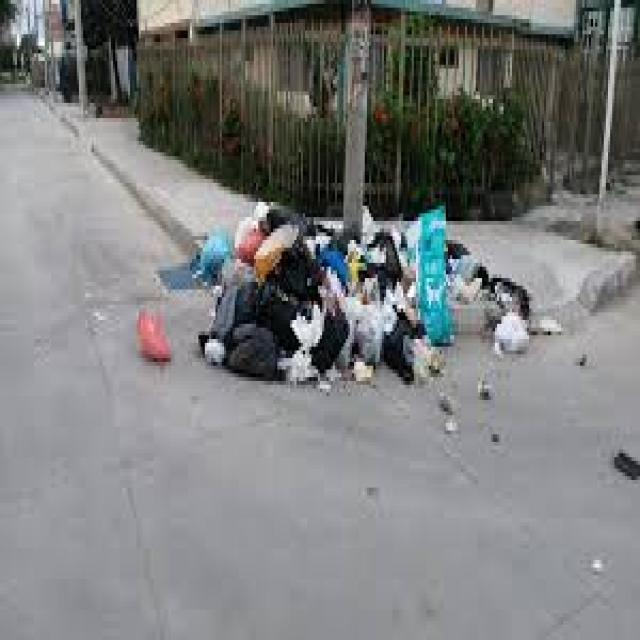garbage: (194, 159, 534, 434)
